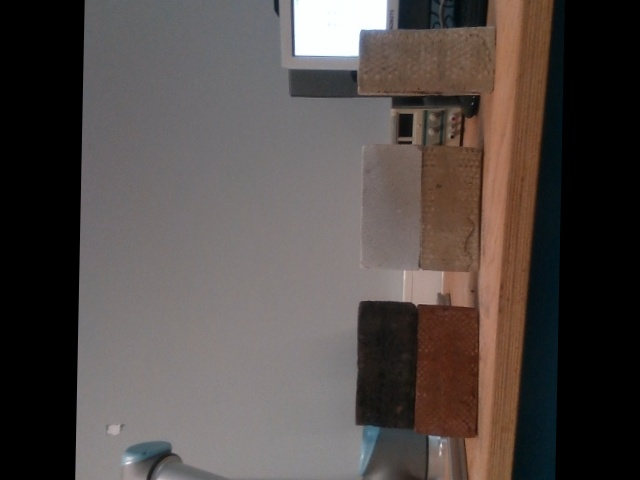brick: (362, 28, 493, 90), (422, 145, 478, 269), (417, 309, 473, 432), (357, 302, 412, 425), (363, 144, 418, 267)
